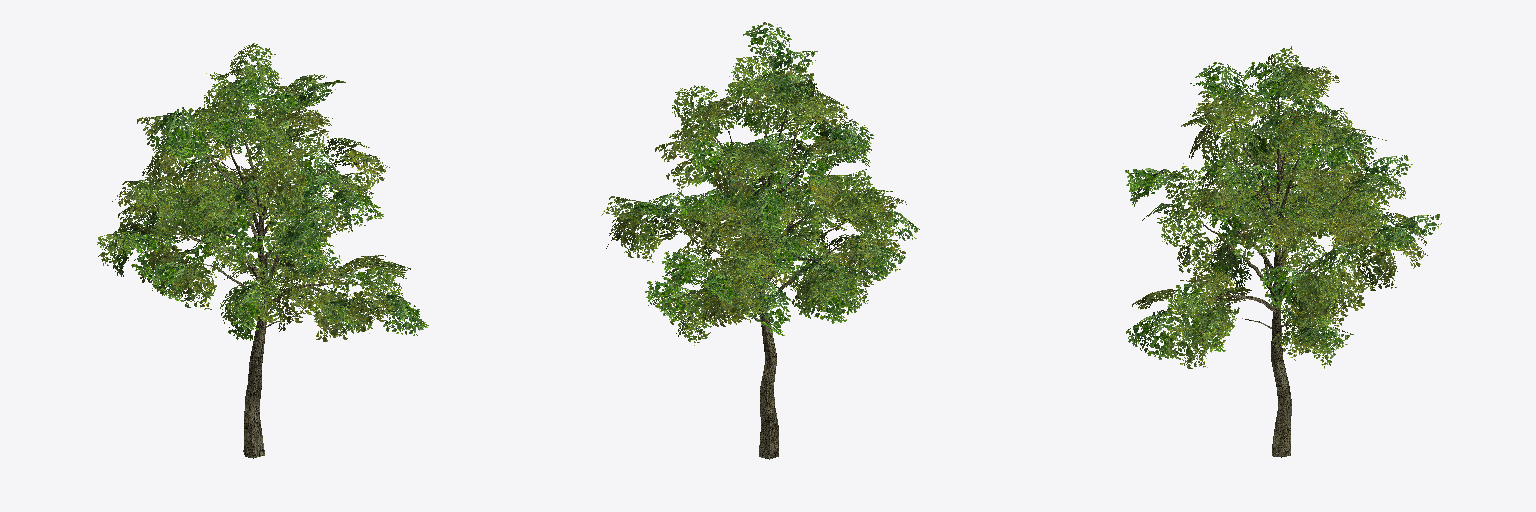
3 renders of one model, left to right at view 1: azimuth 30°, elevation 25°; view 2: azimuth 150°, elevation 25°; view 3: azimuth 270°, elevation 25°, orthographic.
Visible parts, largest first — view 1: Tree_Lod_A, Tree_Lod_A01; view 2: Tree_Lod_A, Tree_Lod_A01; view 3: Tree_Lod_A, Tree_Lod_A01.
Part boxes in pixels (left/top/right/bottom): Tree_Lod_A: left=97, top=43, right=428, bottom=341; Tree_Lod_A01: left=140, top=99, right=385, bottom=458; Tree_Lod_A: left=601, top=22, right=919, bottom=345; Tree_Lod_A01: left=645, top=75, right=858, bottom=459; Tree_Lod_A: left=1125, top=46, right=1441, bottom=368; Tree_Lod_A01: left=1184, top=100, right=1379, bottom=457.
Size of the model in its own units: 15.24 by 20.59 by 15.51.
2 materials, 2 textured.